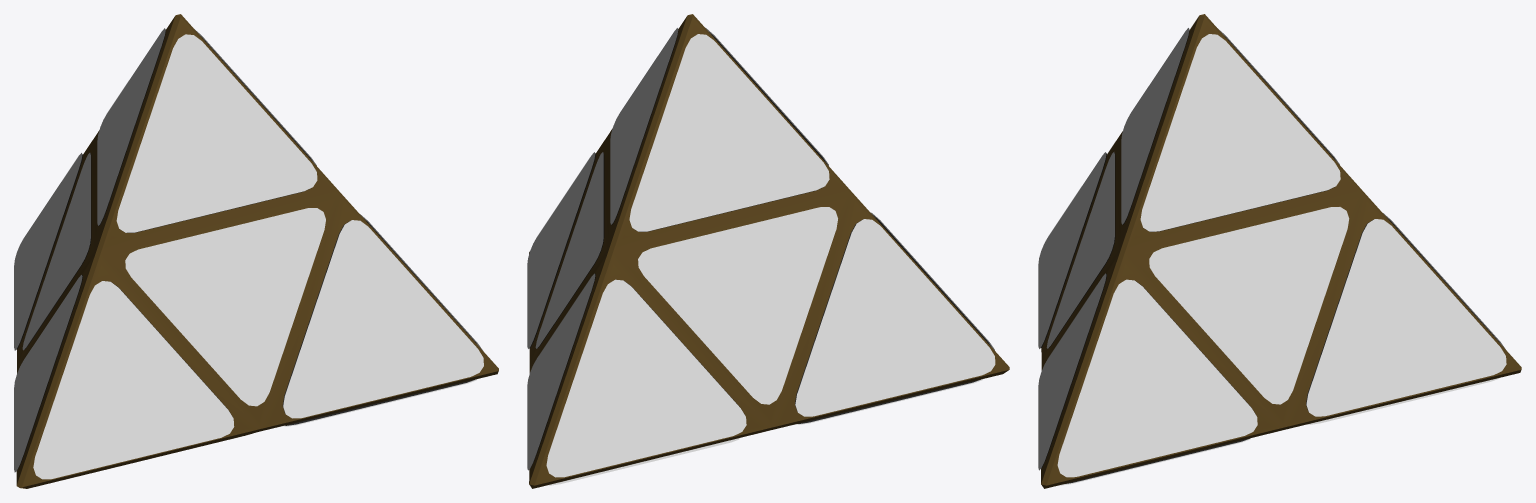
File: Piramide.fbx
The picture shows the model from 3 angles, left to right: view 1: azimuth 30°, elevation 25°; view 2: azimuth 150°, elevation 25°; view 3: azimuth 270°, elevation 25°; orthographic projection.
Parts seen in each view (by area): view 1: piramide antisemita del porcodiddi.032, piramide antisemita del porcodiddi.001; view 2: piramide antisemita del porcodiddi.032, piramide antisemita del porcodiddi.001; view 3: piramide antisemita del porcodiddi.032, piramide antisemita del porcodiddi.001.
Boxes of the visible parts, left/top/right/bottom form: piramide antisemita del porcodiddi.032: left=14, top=28, right=483, bottom=479; piramide antisemita del porcodiddi.001: left=16, top=14, right=498, bottom=488; piramide antisemita del porcodiddi.032: left=527, top=28, right=995, bottom=485; piramide antisemita del porcodiddi.001: left=529, top=14, right=1009, bottom=488; piramide antisemita del porcodiddi.032: left=1038, top=28, right=1506, bottom=485; piramide antisemita del porcodiddi.001: left=1040, top=14, right=1521, bottom=488.
Size of the model in its own units: 170 by 122 by 148.
Materials: 2 (2 with a texture image).
